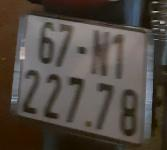1: (111, 30, 128, 81)
2: (42, 71, 64, 121), (21, 67, 41, 116)
6: (34, 19, 58, 68)
7: (92, 81, 117, 134), (64, 74, 87, 126), (54, 21, 76, 70)
8: (118, 86, 140, 139)
H: (88, 28, 111, 78)
